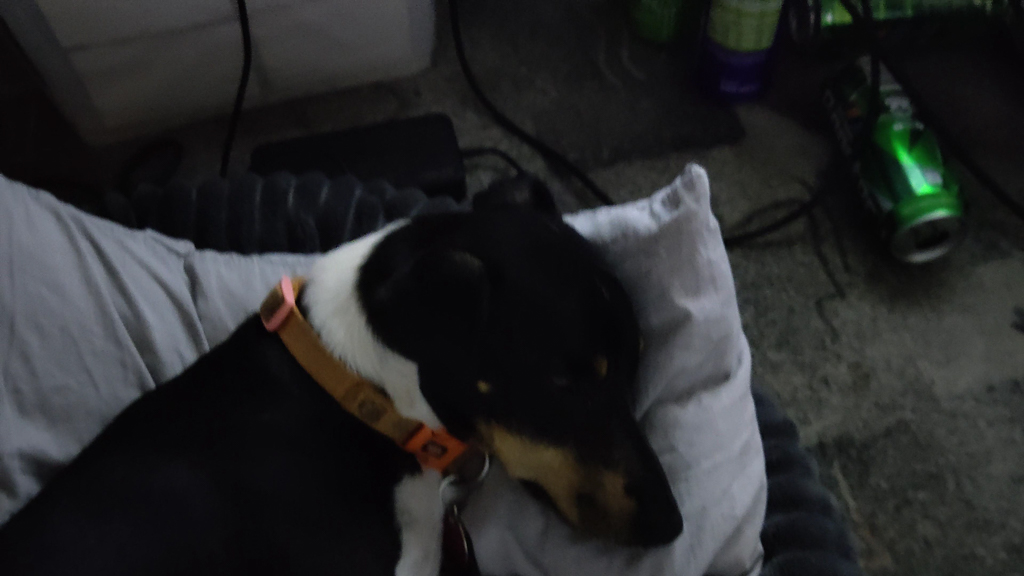Dog: (0, 164, 700, 576)
